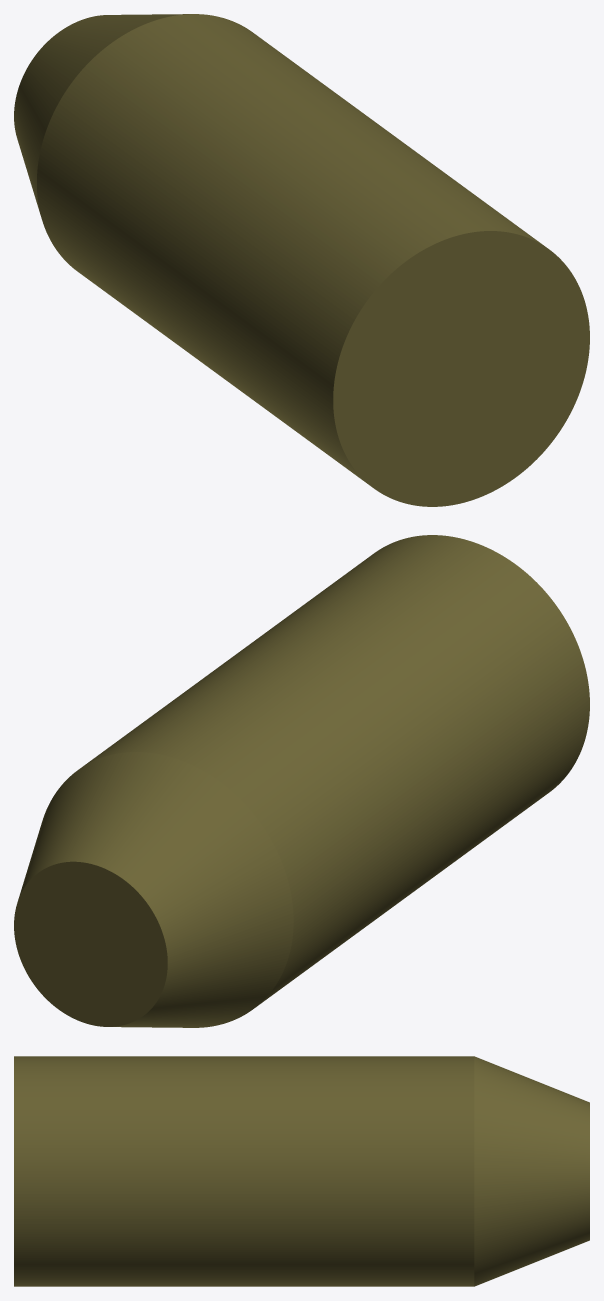
The model's file is Baret.glb.
3 renders of one model, top to bottom at view 1: azimuth 30°, elevation 25°; view 2: azimuth 150°, elevation 25°; view 3: azimuth 270°, elevation 25°, orthographic. The views are drawn at different scales.
Parts seen in each view (by area): view 1: 円柱; view 2: 円柱; view 3: 円柱.
Part boxes in pixels (left/top/right/bottom): 円柱: left=14, top=14, right=589, bottom=506; 円柱: left=14, top=535, right=589, bottom=1027; 円柱: left=14, top=1056, right=589, bottom=1286.
Size of the model in its own units: 2 by 2 by 5.
Materials: 1 (1 with a texture image).
